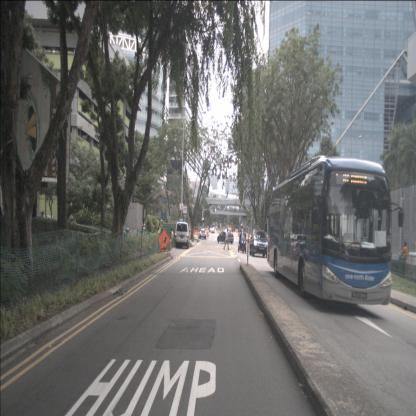barrier: (233, 232, 238, 237)
